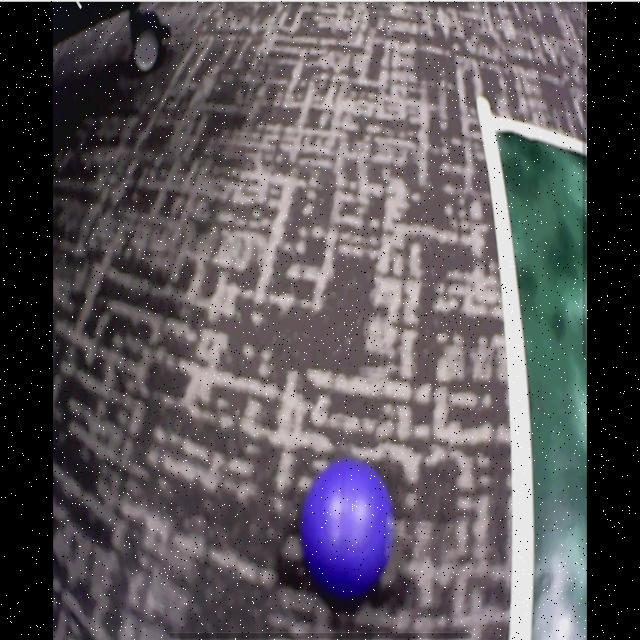ball: (302, 458, 395, 594)
